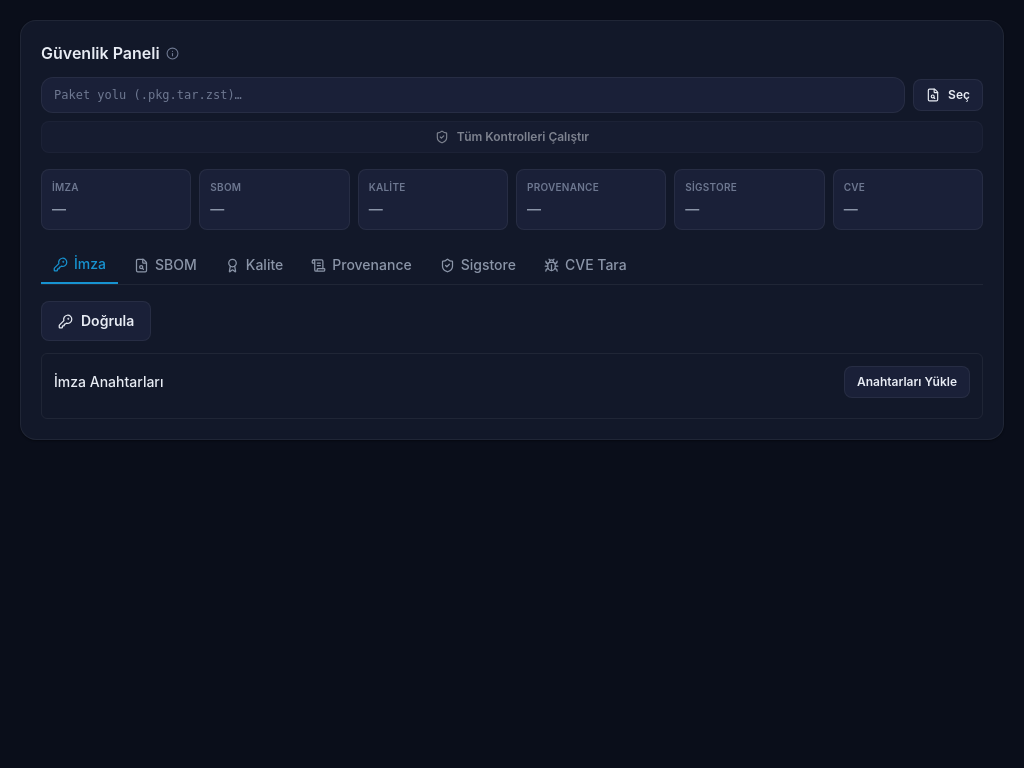
Test case: Security page — tab panelleri ve branch kapsami › verify RPC hatasi: hata mesaji toast'ta gosterilir
Type "/tmp/demo.pkg.tar.zst" into the field with placeholder "Paket yolu (.pkg.tar.zst)…" at [473, 95], box x1=41 y1=77 x2=905 y2=113
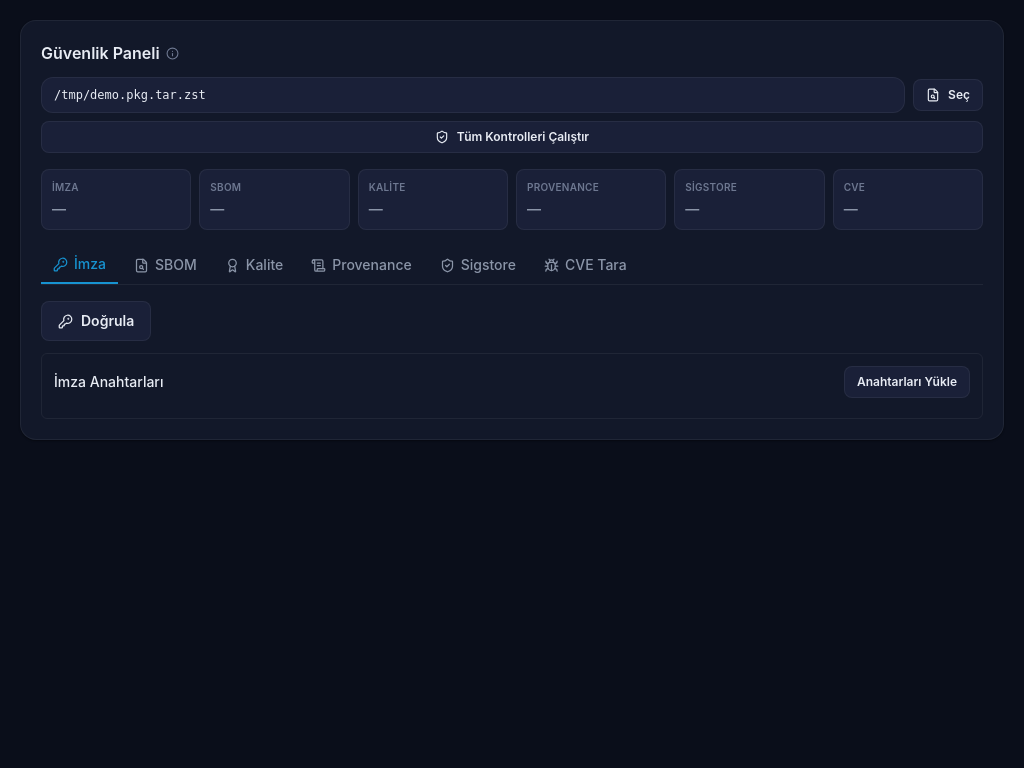
Click the button "Doğrula" at [96, 321], box x1=41 y1=301 x2=151 y2=341
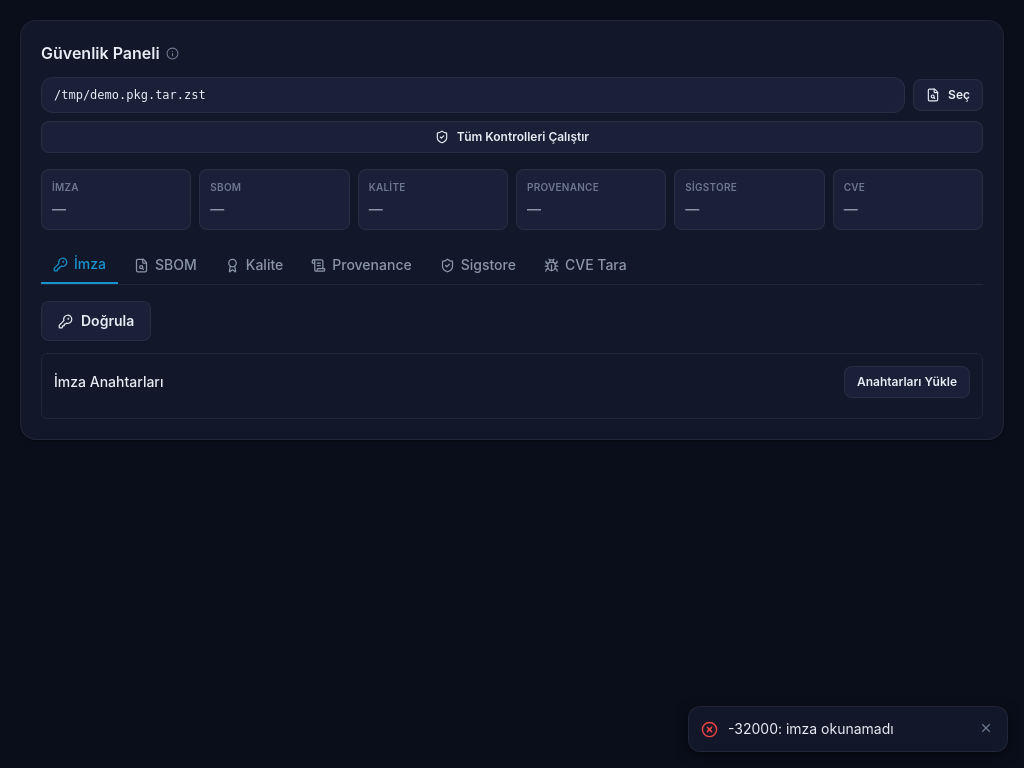
Result: the text "-32000: imza okunamadı" is shown at x1=728 y1=720 x2=894 y2=737
